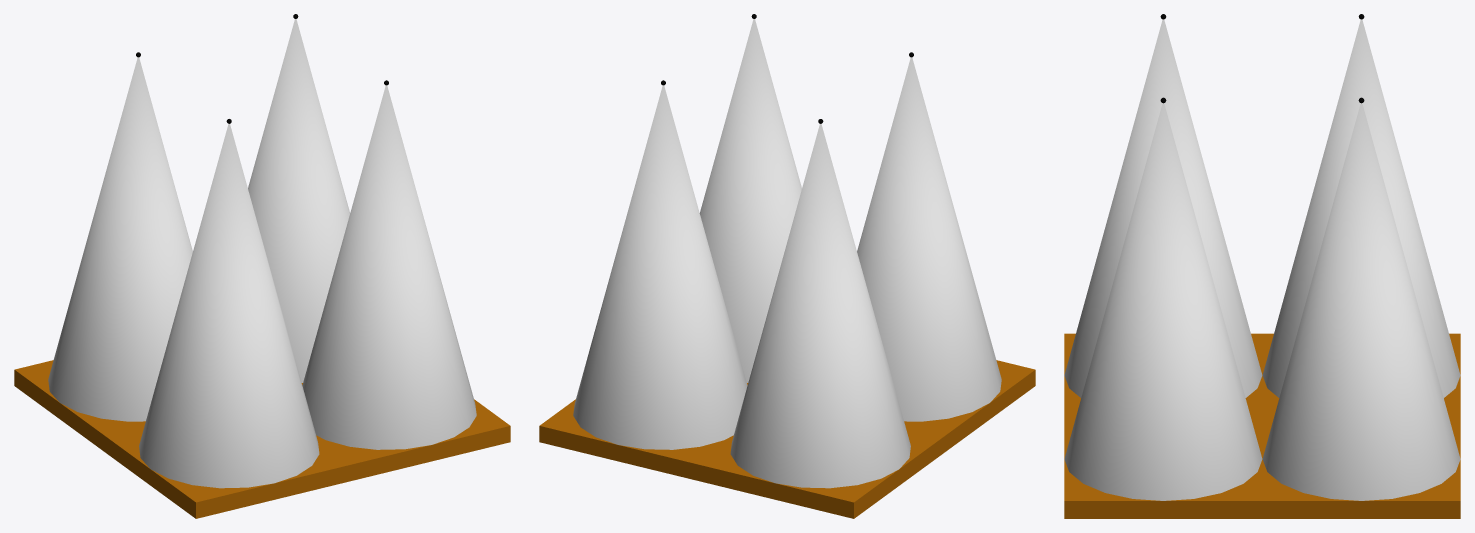
File: Spikes.fbx
3 renders of one model, left to right at view 1: azimuth 30°, elevation 25°; view 2: azimuth 150°, elevation 25°; view 3: azimuth 270°, elevation 25°, orthographic. The views are drawn at different scales.
Parts seen in each view (by area): view 1: group2; view 2: group2; view 3: group2.
Part boxes in pixels (x1=…): group2: x1=14, y1=14, x2=510, y2=518; group2: x1=539, y1=14, x2=1035, y2=518; group2: x1=1064, y1=14, x2=1460, y2=518.
Bounding box in the file's own units: 1.45 × 1.53 × 1.45.
